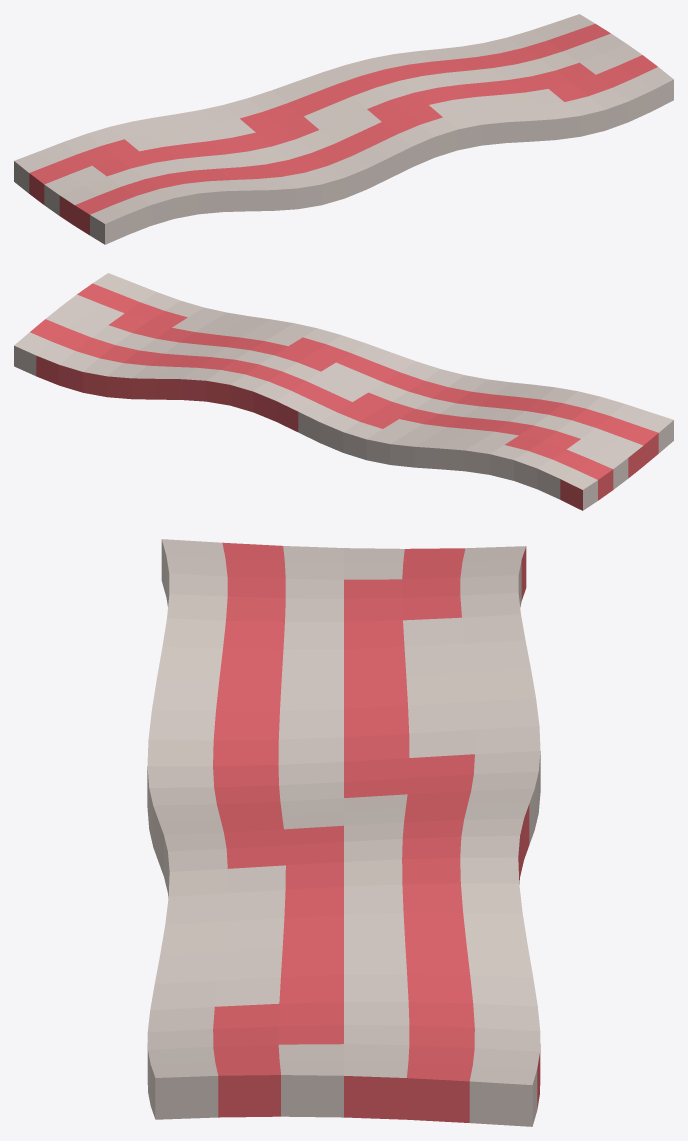
Rendered from bacon_raw.glb.
3 renders of one model, top to bottom at view 1: azimuth 30°, elevation 25°; view 2: azimuth 150°, elevation 25°; view 3: azimuth 270°, elevation 25°, orthographic. The views are drawn at different scales.
Visible parts, largest first — view 1: BaconRaw; view 2: BaconRaw; view 3: BaconRaw.
Boxes of the visible parts, box(x1,y1,x2,y2) form: BaconRaw: box(14, 14, 673, 244); BaconRaw: box(14, 273, 673, 510); BaconRaw: box(147, 539, 540, 1126).
Bounding box in the file's own units: 4 × 0.3 × 1.2.
